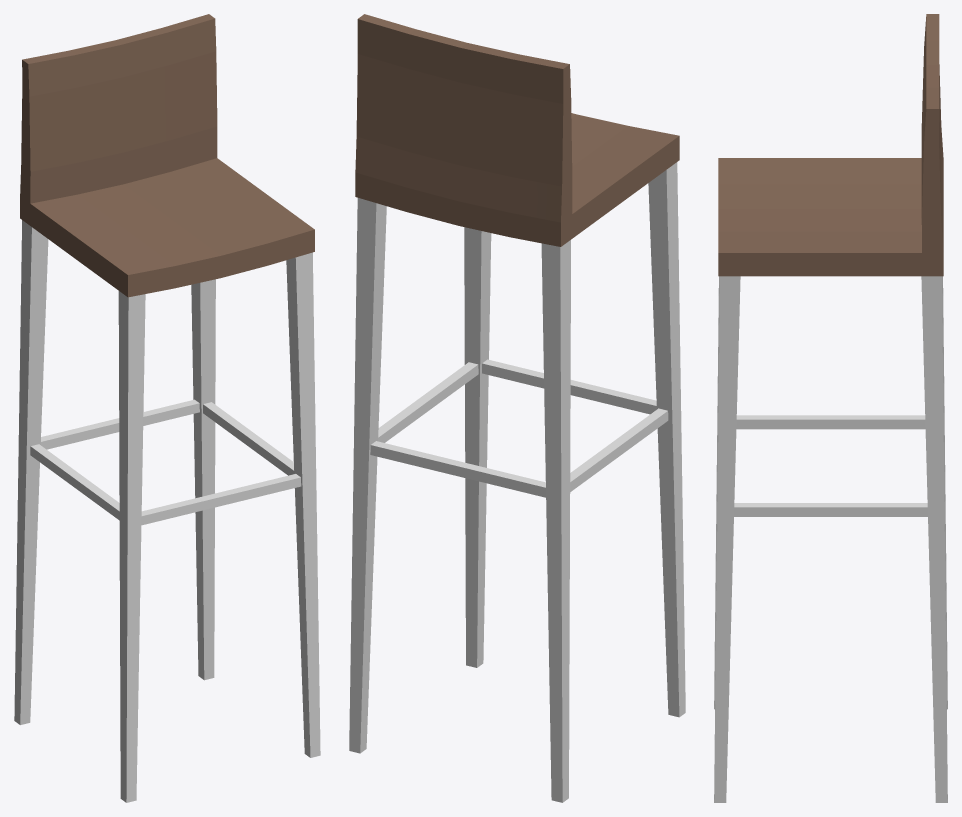
The model's file is Chair_09_C1.fbx.
3 views of the same model, side by side, from view 1: azimuth 30°, elevation 25°; view 2: azimuth 150°, elevation 25°; view 3: azimuth 270°, elevation 25° (orthographic). The views are drawn at different scales.
Parts seen in each view (by area): view 1: Chair_09_C1; view 2: Chair_09_C1; view 3: Chair_09_C1.
Part boxes in pixels (box(x1,y1,x2,y2)): Chair_09_C1: box(14, 14, 320, 802); Chair_09_C1: box(349, 14, 685, 802); Chair_09_C1: box(714, 14, 947, 802).
Size of the model in its own units: 33.75 by 110 by 33.75.
